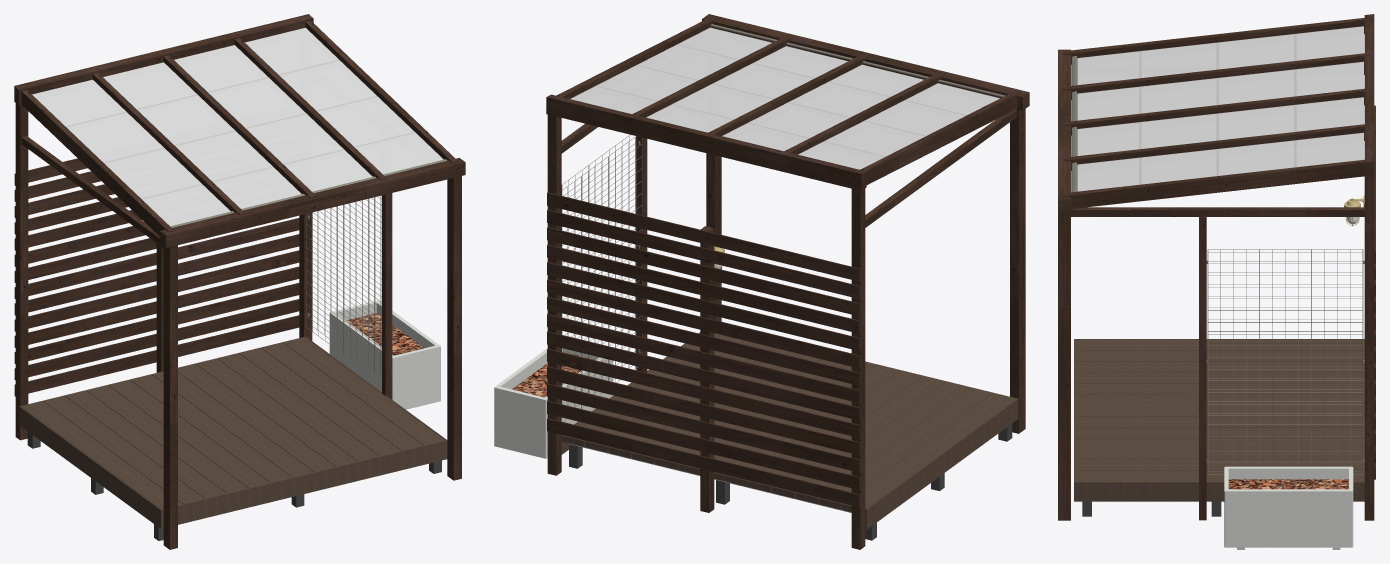
The model's file is spg1-g_darkpine.fbx.
3 views of the same model, side by side, from view 1: azimuth 30°, elevation 25°; view 2: azimuth 150°, elevation 25°; view 3: azimuth 270°, elevation 25° (orthographic). The views are drawn at different scales.
Parts seen in each view (by area): view 1: spg1-g_darkpine_ファニチャーなし.001; view 2: spg1-g_darkpine_ファニチャーなし.001; view 3: spg1-g_darkpine_ファニチャーなし.001.
Boxes of the visible parts, box(x1,y1,x2,y2) form: spg1-g_darkpine_ファニチャーなし.001: box(14, 14, 465, 549); spg1-g_darkpine_ファニチャーなし.001: box(494, 14, 1029, 549); spg1-g_darkpine_ファニチャーなし.001: box(1058, 14, 1375, 549).
Bounding box in the file's own units: 326 × 308 × 246.
Materials: 16 (9 with a texture image).
